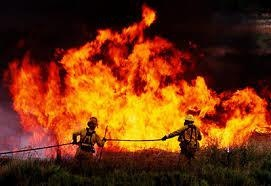fire: (0, 13, 237, 155)
